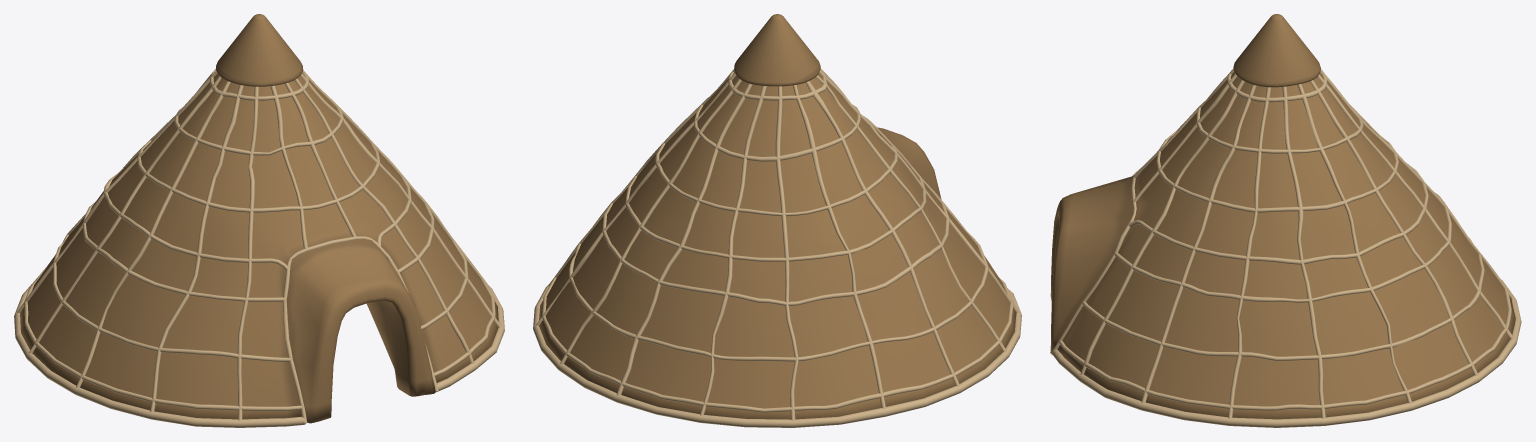
Rendered from amsa_dong_site.glb.
3 renders of one model, left to right at view 1: azimuth 30°, elevation 25°; view 2: azimuth 150°, elevation 25°; view 3: azimuth 270°, elevation 25°, orthographic.
Visible parts, largest first — view 1: Seoul25_4; view 2: Seoul25_4; view 3: Seoul25_4.
Boxes of the visible parts, x1,y1,x2,y2 form: Seoul25_4: (14, 14, 504, 427); Seoul25_4: (533, 14, 1021, 427); Seoul25_4: (1050, 14, 1521, 427).
Bounding box in the file's own units: 6.83 × 4.79 × 6.57.
1 material, 1 textured.
